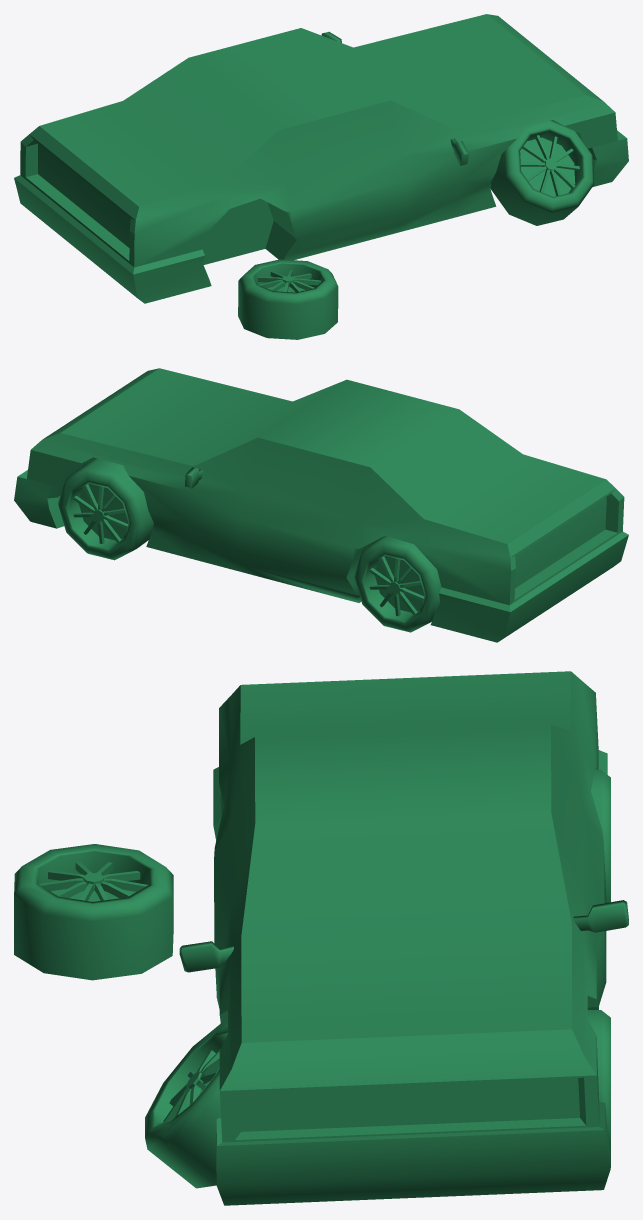
The model's file is broken_car_3wheel.fbx.
The picture shows the model from 3 angles, top to bottom: view 1: azimuth 30°, elevation 25°; view 2: azimuth 150°, elevation 25°; view 3: azimuth 270°, elevation 25°; orthographic projection. The views are drawn at different scales.
Parts seen in each view (by area): view 1: polySurface97; view 2: polySurface97; view 3: polySurface97.
Part boxes in pixels (x1,y1,x2,y2): polySurface97: [14, 14, 628, 339]; polySurface97: [14, 368, 628, 642]; polySurface97: [14, 671, 628, 1205].
Bounding box in the file's own units: 5.14 × 1.52 × 3.32.
